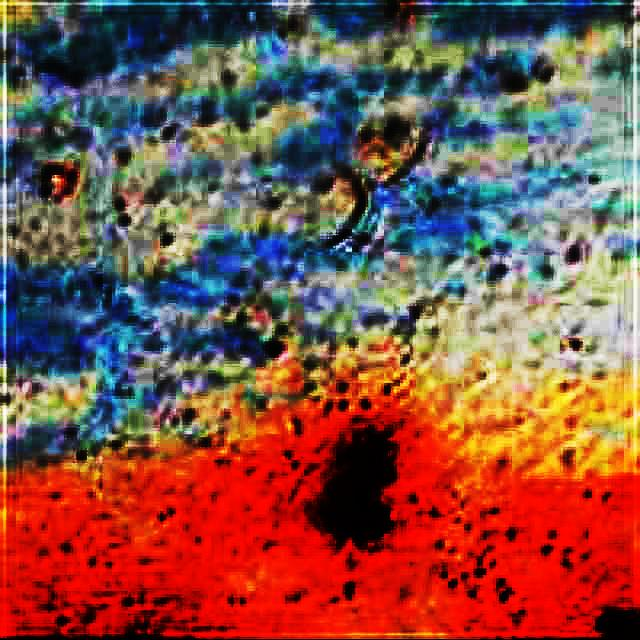Corrosion: (314, 434, 393, 547), (597, 612, 639, 637)
